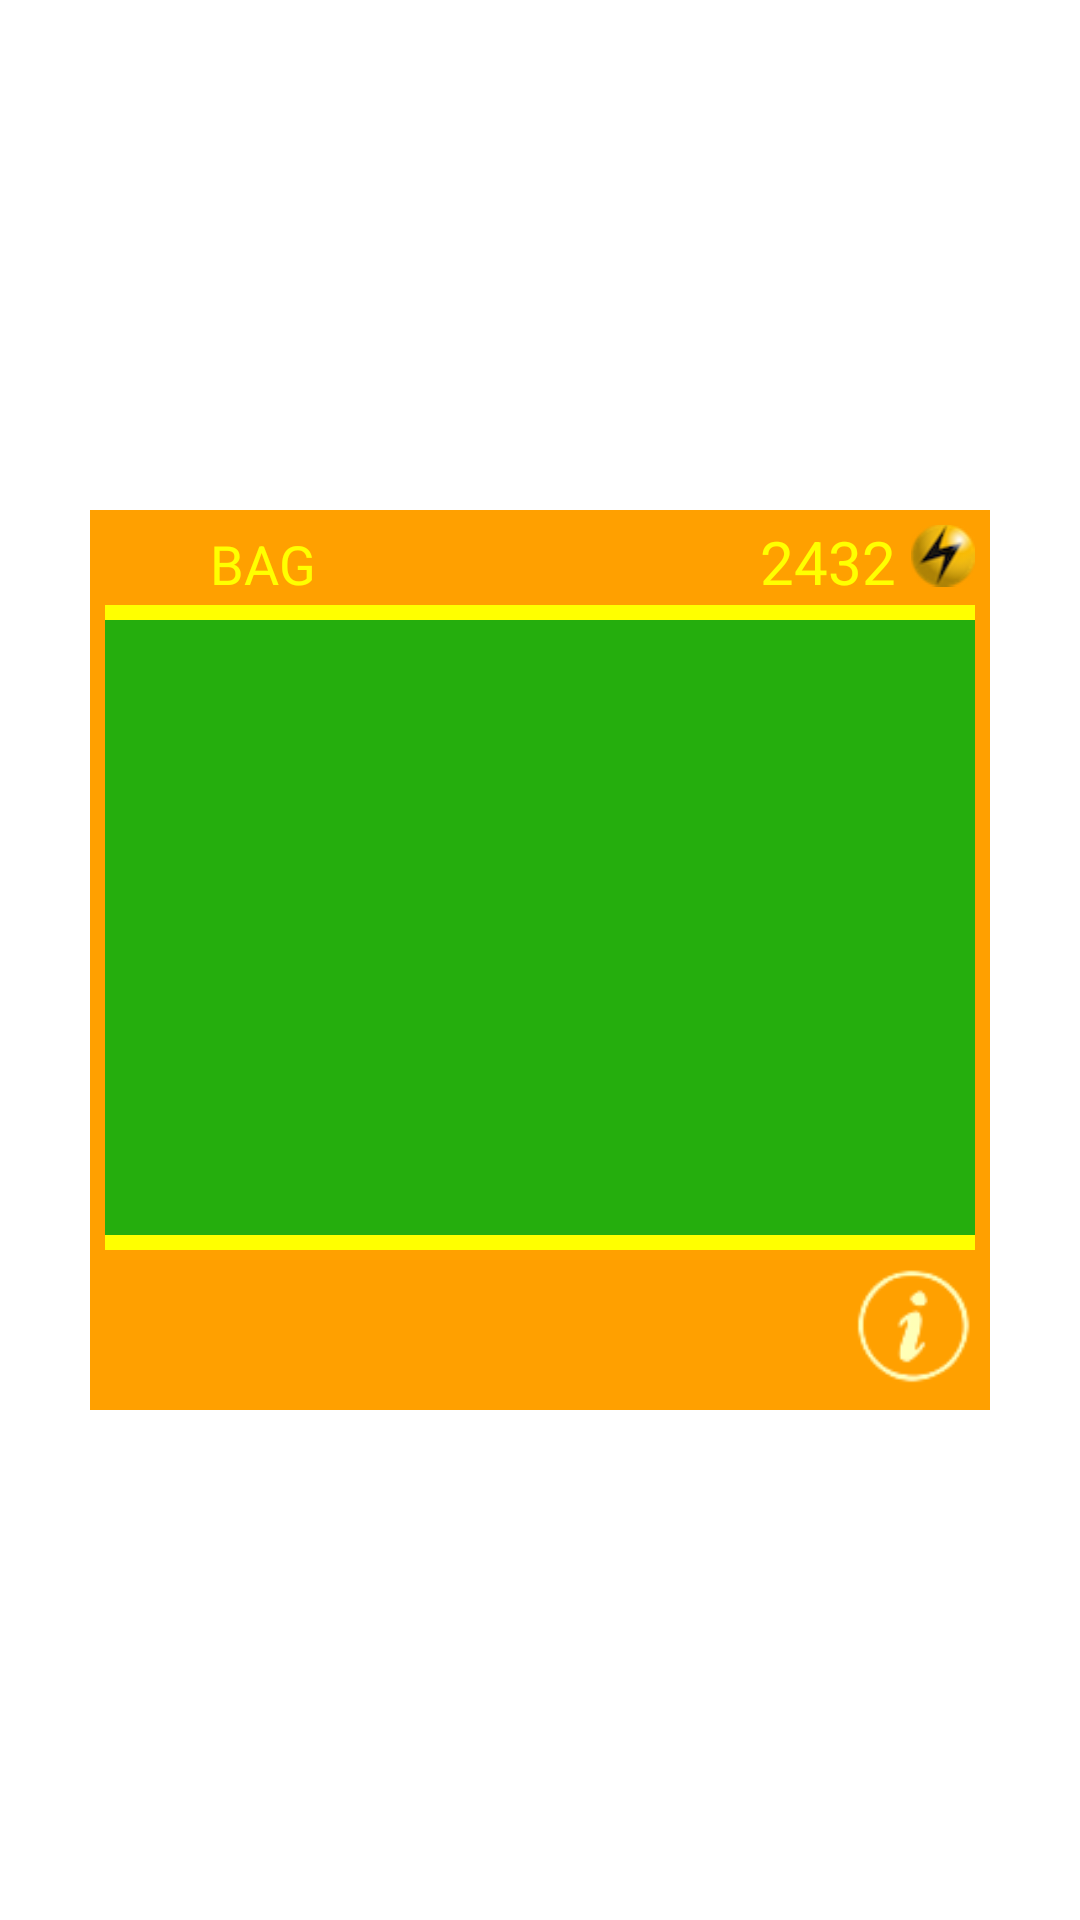

Where to tap for icons on this 1080 × 1920 app screen, as [x,y]:
info: [913,1326]
thunder: [943,556]
